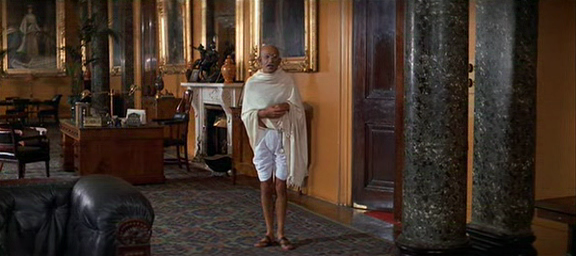face: (260, 47, 280, 72)
ls: (1, 1, 576, 256)
person: (240, 44, 307, 252)
